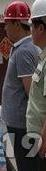hard-hat: (3, 0, 31, 21)
